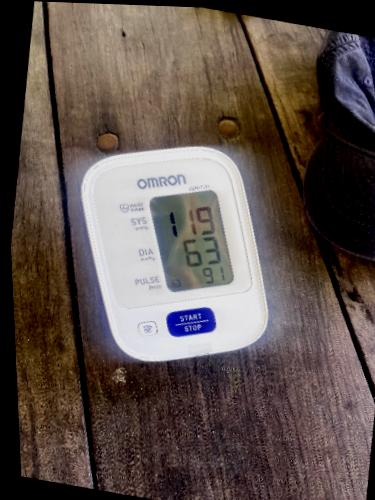bpm: (146, 182, 235, 298)
